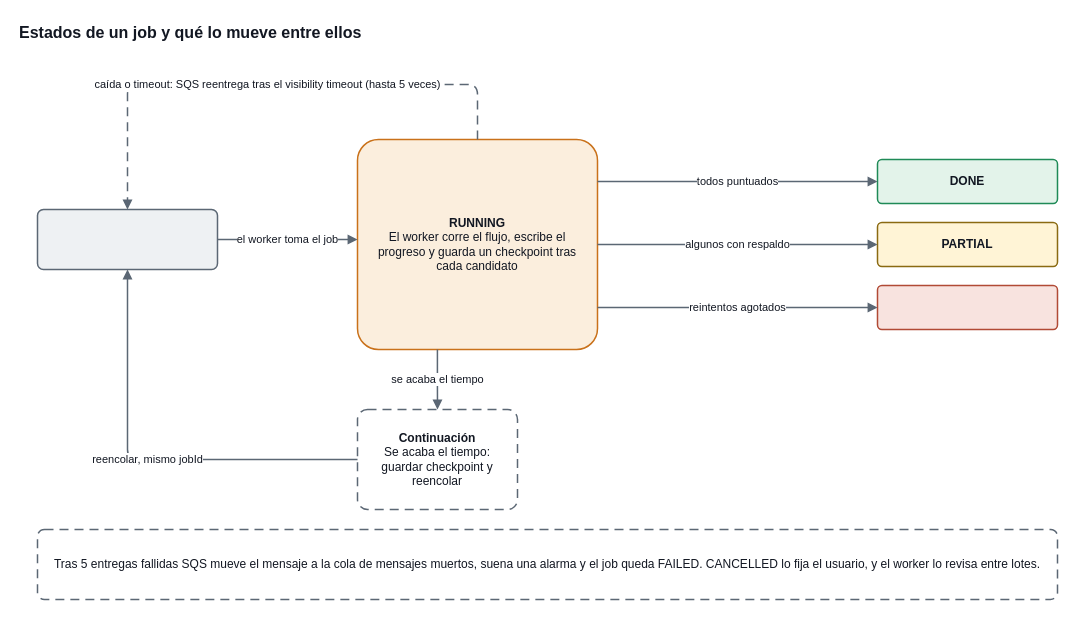
The diagram is 1075 pixels wide and 617 high, and some of its shapes have lost their labels. The shapes that lost their labels are listed below. From the top down, each one's centre as x and y in pixels, then its label:
At [127,239]: "QUEUED".
At [967,307]: "FAILED".
